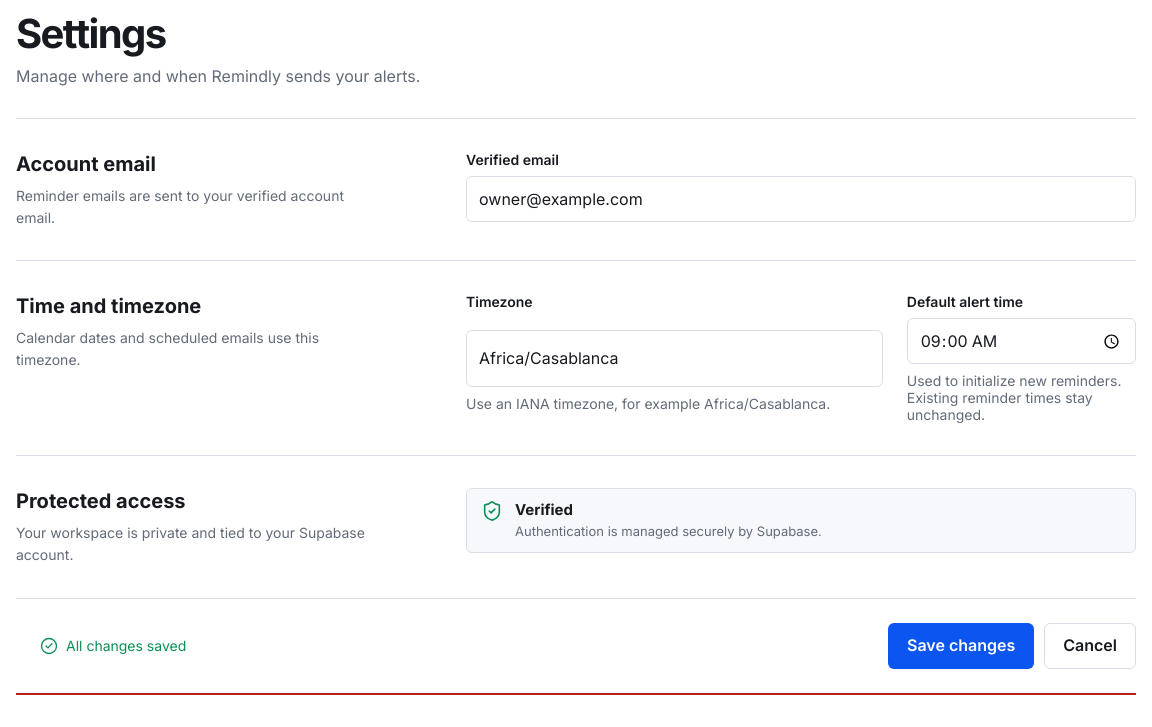
Test: SettingsPage › preserves invalid edits, reports the field, and lets Cancel restore loaded values
The image size is (1152, 727).
Replace the text in the field labelled "Timezone" with "Not/A-Timezone" at (674,358), box [466,330,883,387]
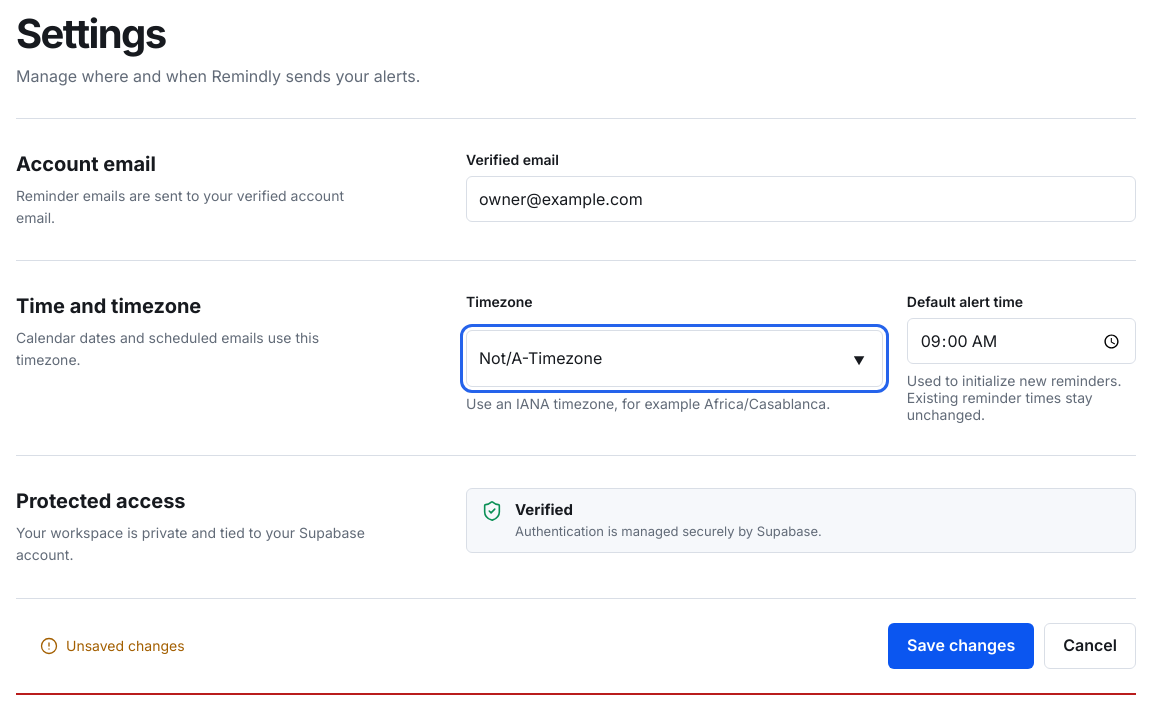
Click the button "Save changes" at (961,646), box [888,623,1034,669]
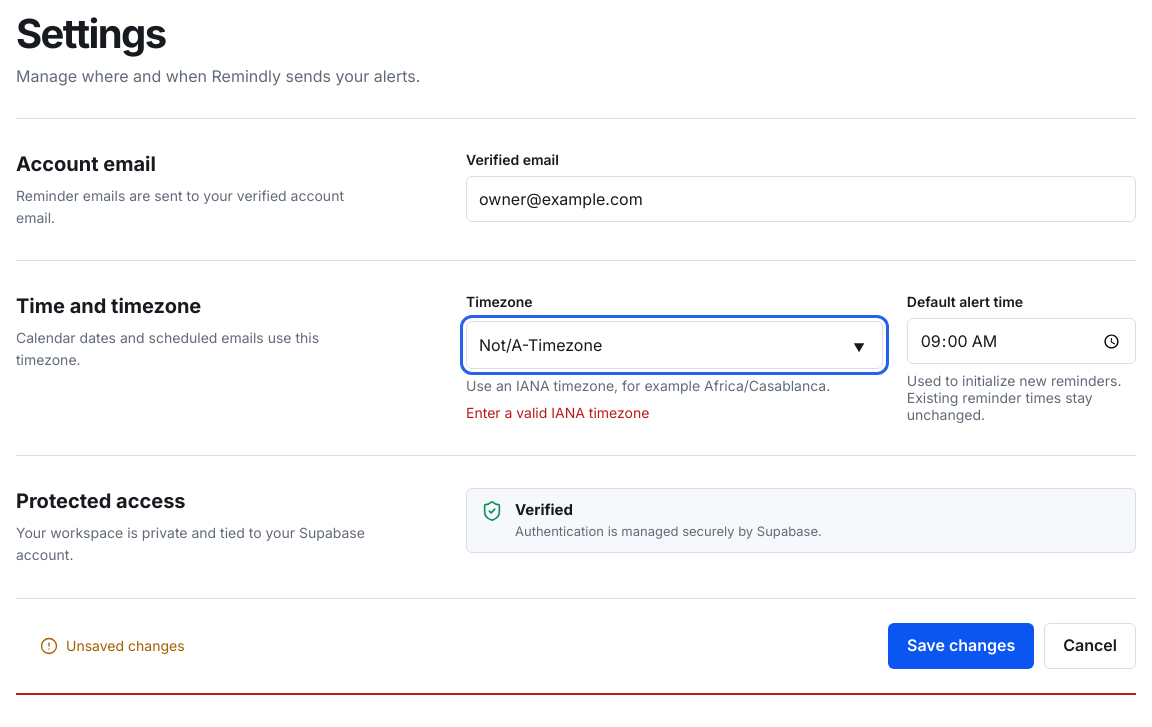
Expected: the text "Enter a valid IANA timezone" is shown, [466,404,649,421]
Click the button "Cancel" at (1090,646), box [1044,623,1136,669]
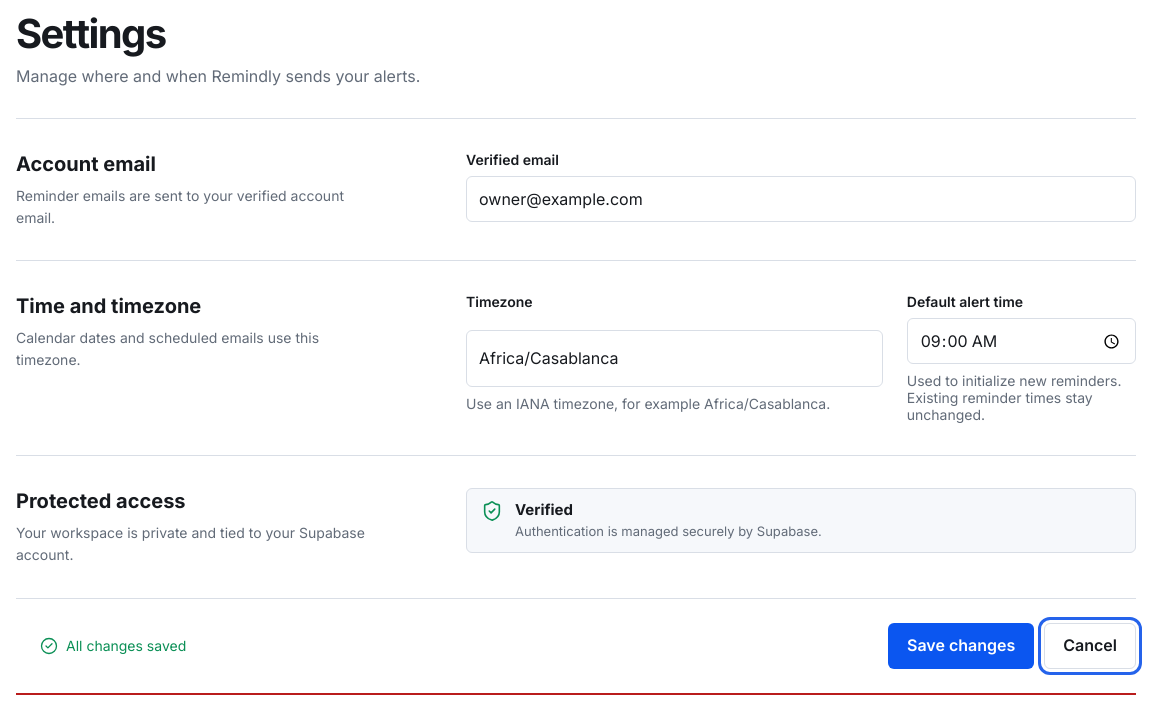
Expected: the field labelled "Timezone" holds "Africa/Casablanca", [466,330,883,387]
Expected: the text "Enter a valid IANA timezone" is gone
